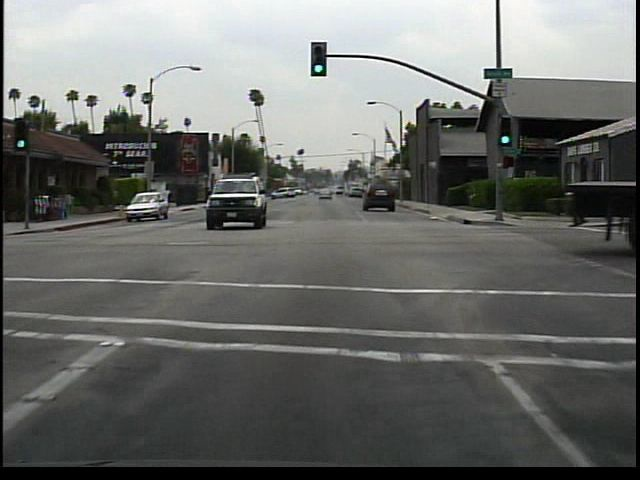person: (160, 183, 177, 208)
